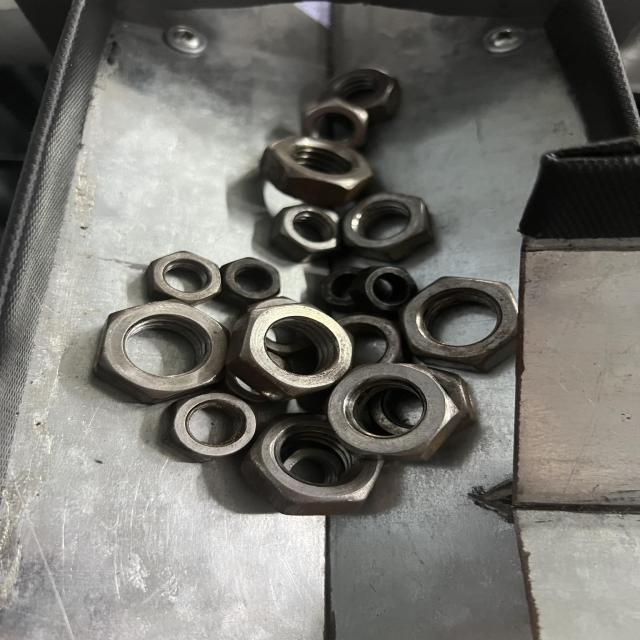nut: (92, 298, 226, 400), (401, 275, 521, 368), (238, 303, 349, 391)
